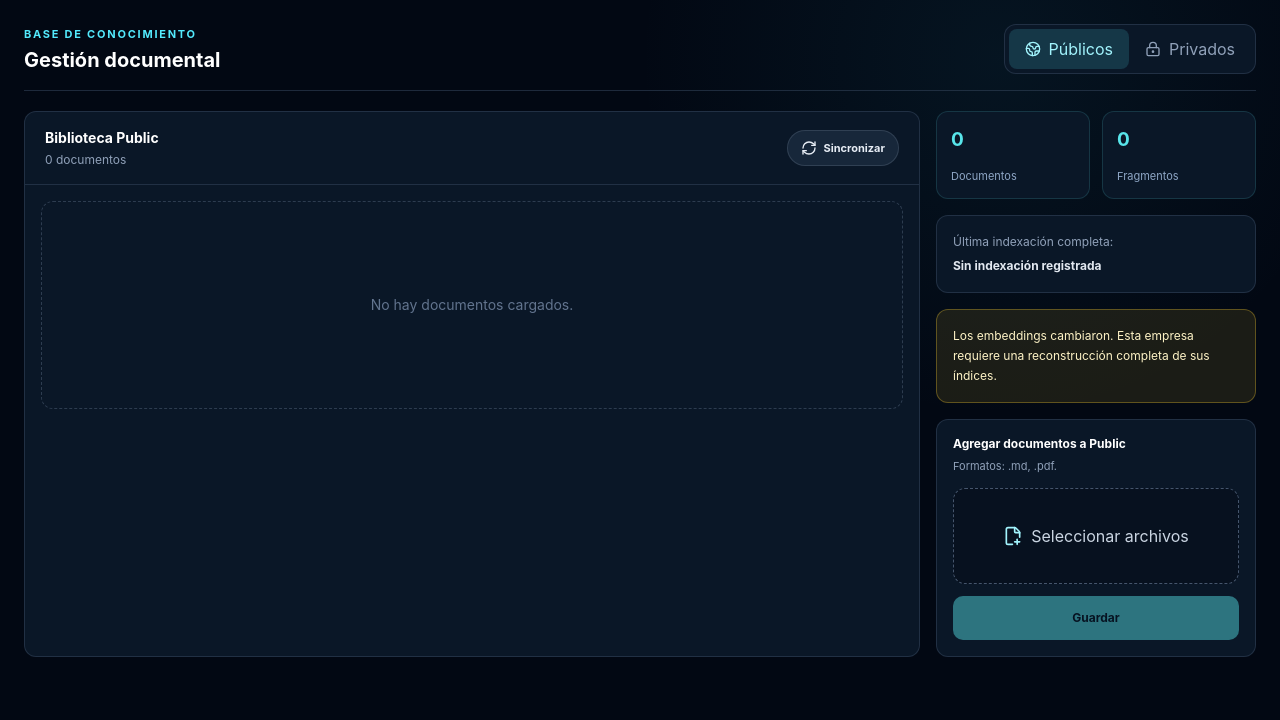
Test case: área administrativa › permite cancelar la sincronización desde el diálogo
Click the button "Sincronizar" at x=843, y=148, box [786, 130, 899, 166]
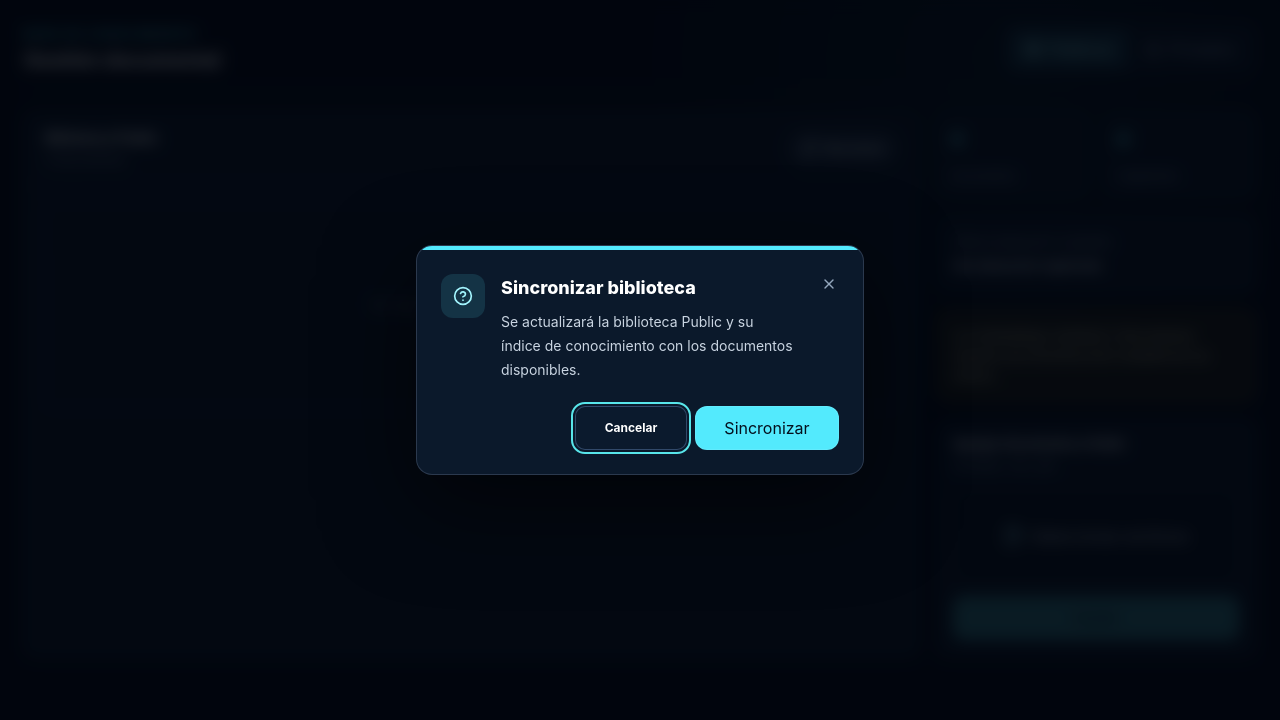
Check: the dialog "Sincronizar biblioteca" is shown, box [416, 245, 864, 475]
Click the button "Cancelar" at x=631, y=428, box [575, 406, 687, 450]
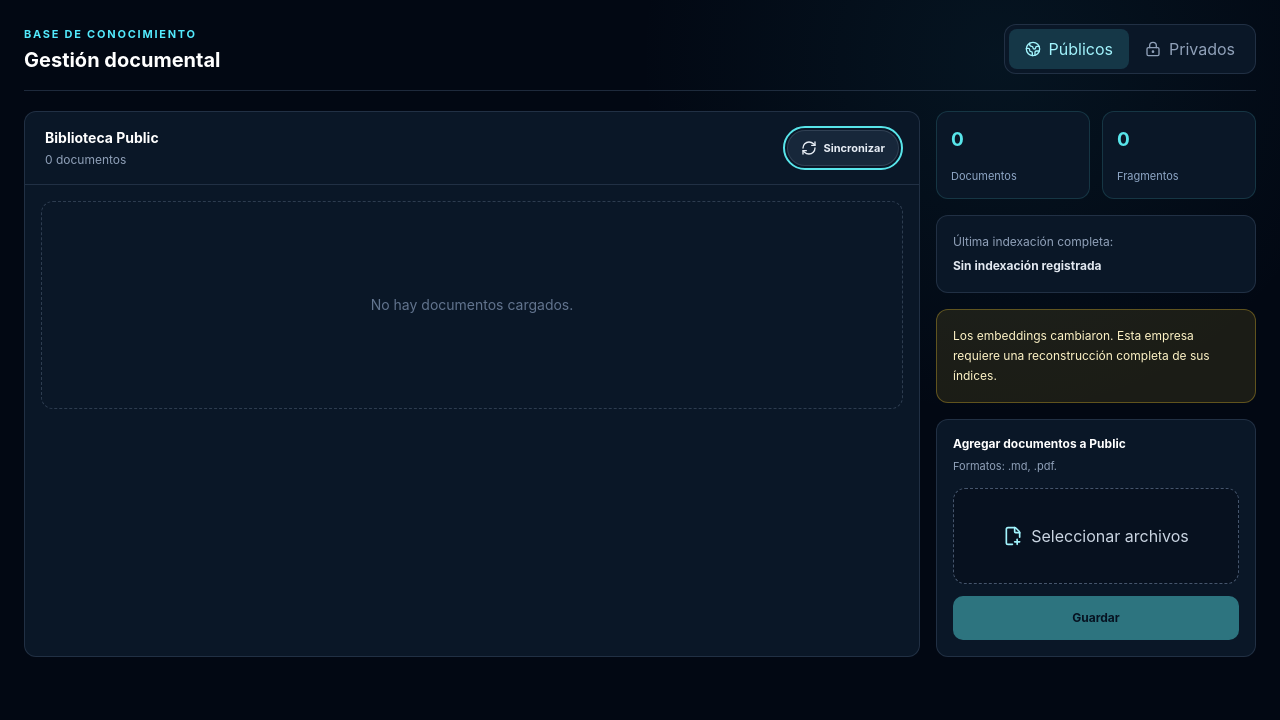
Check: the heading "Sincronizar biblioteca" is gone
